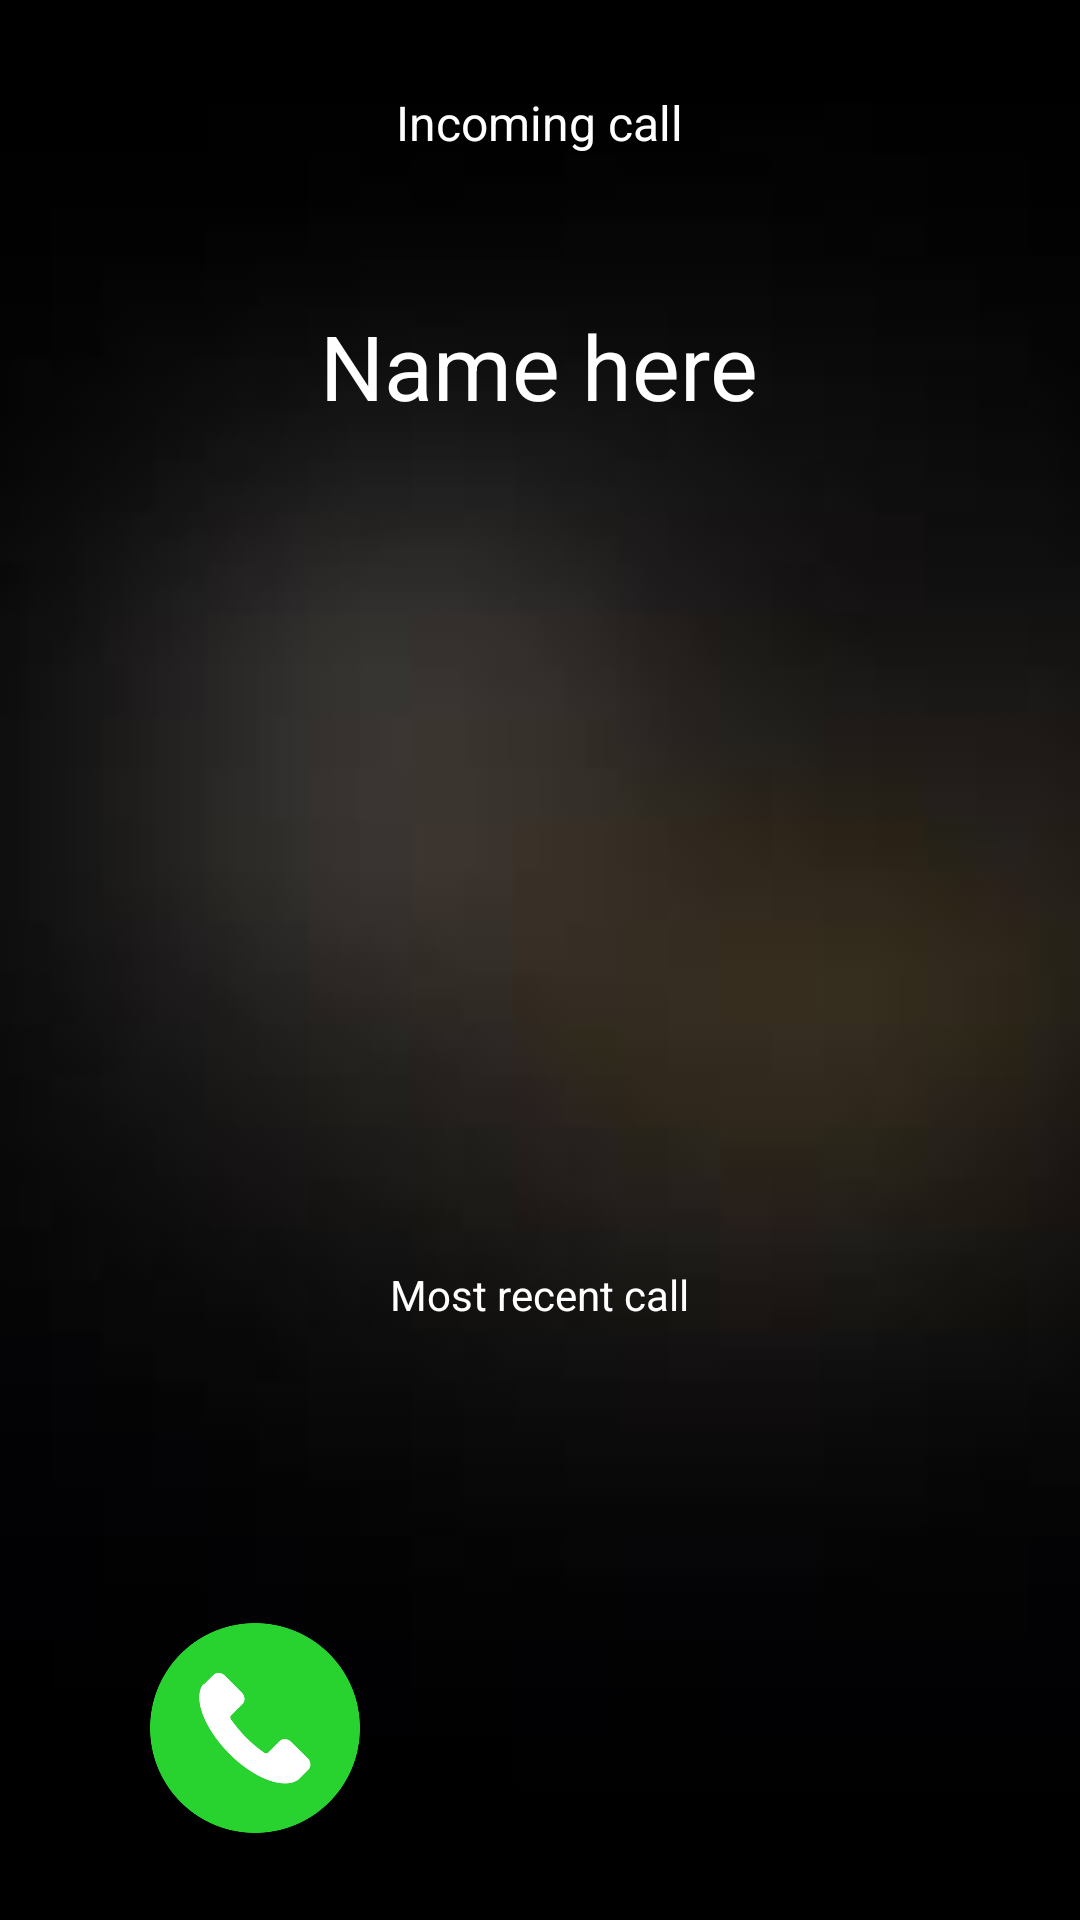

Named icons in this screenshot (1080*1920) and their bounding boxes, (x1, y1, x2, y2):
accept: (150, 1623, 360, 1833)
